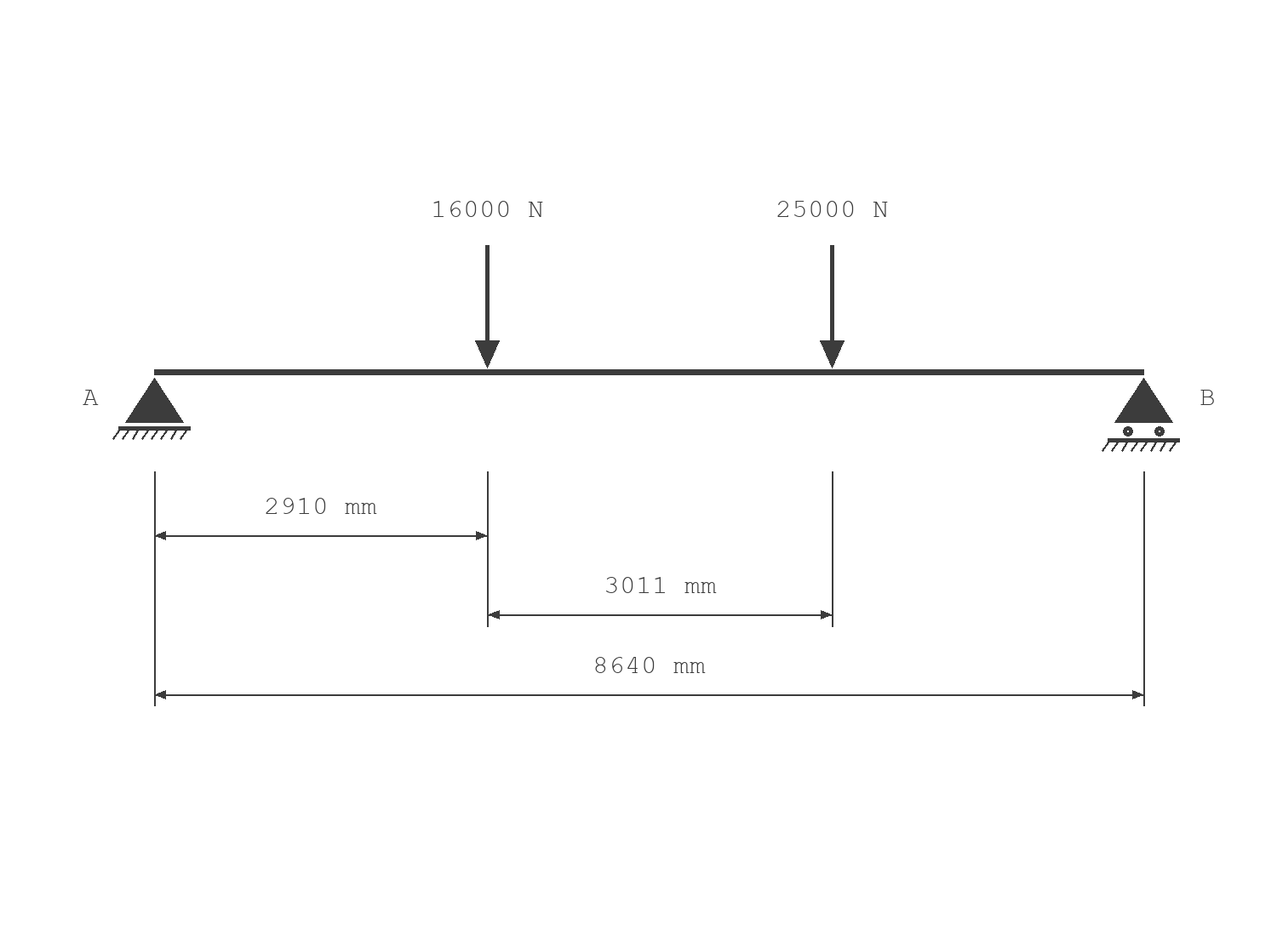pin_support: (112, 378, 191, 440)
point_load: (475, 245, 500, 368), (820, 245, 845, 368)
roller_support: (1102, 378, 1180, 452)
